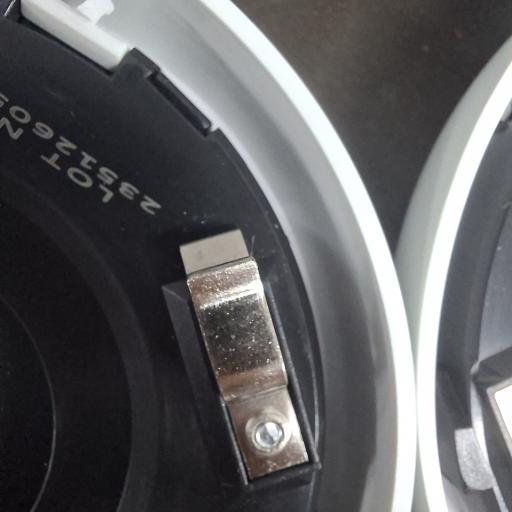yayli: (178, 232, 309, 479)
